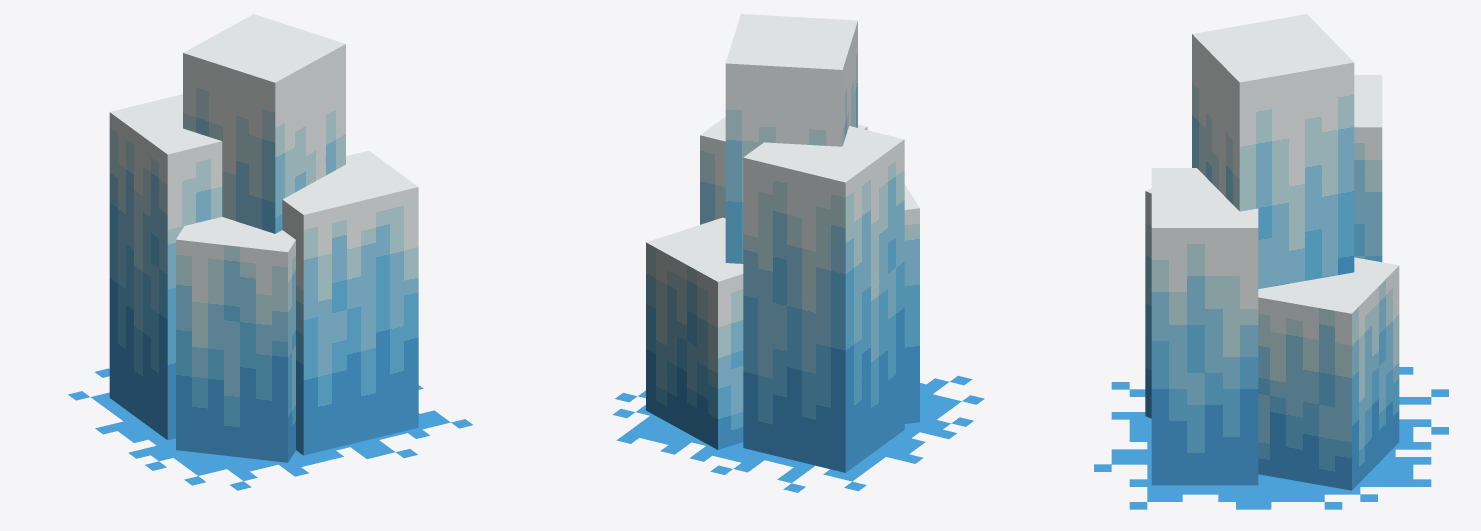
Rendered from fx_freeze.gltf.
3 views of the same model, side by side, from view 1: azimuth 30°, elevation 25°; view 2: azimuth 150°, elevation 25°; view 3: azimuth 270°, elevation 25° (orthographic). The views are drawn at different scales.
Parts seen in each view (by area): view 1: cube (×5); view 2: cube (×6); view 3: cube (×6).
Part boxes in pixels (x1,y1,x2,y2): cube (×5): (68,14,472,490); cube (×6): (612,14,984,492); cube (×6): (1094,14,1448,509).
Bounding box in the file's own units: 1.38 × 1.5 × 1.38.
1 material, 1 textured.
